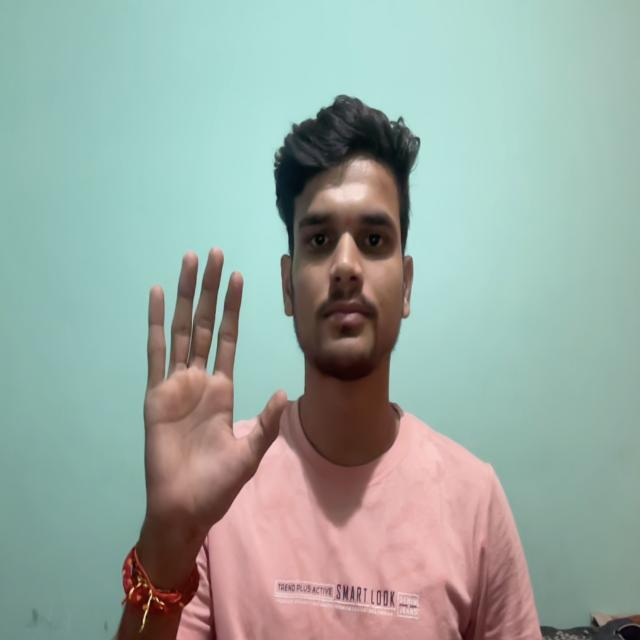hello: (118, 221, 290, 588)
